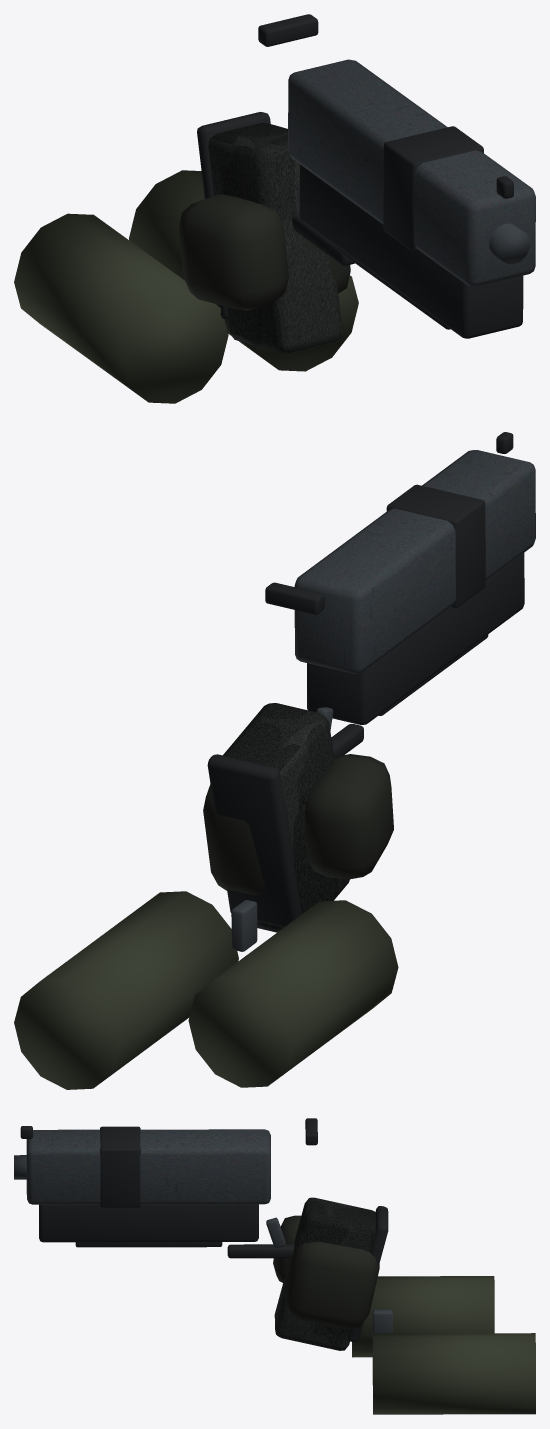
File: weapon_glock.glb
3 renders of one model, top to bottom at view 1: azimuth 30°, elevation 25°; view 2: azimuth 150°, elevation 25°; view 3: azimuth 270°, elevation 25°, orthographic. The views are drawn at different scales.
Visible parts, largest first — view 1: WeaponMesh; view 2: WeaponMesh; view 3: WeaponMesh.
Boxes of the visible parts, bbox=[...] form: WeaponMesh: bbox=[14, 14, 535, 403]; WeaponMesh: bbox=[14, 432, 535, 1089]; WeaponMesh: bbox=[14, 1118, 535, 1414].
Size of the model in its own units: 0.1906 by 0.2865 by 0.513.
Materials: 5 (2 with a texture image).
